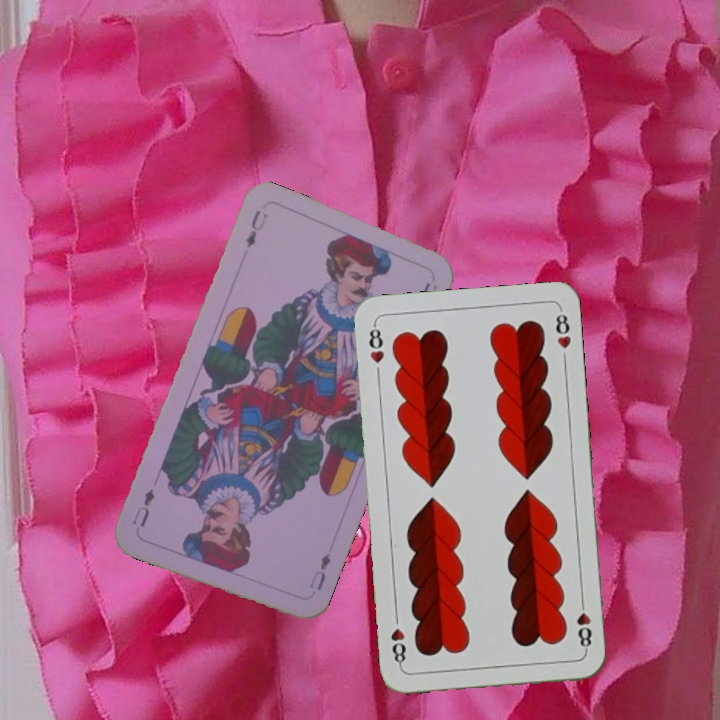EU: (242, 205, 271, 251), (305, 549, 334, 593)
H8: (573, 595, 594, 654), (365, 320, 387, 366)
